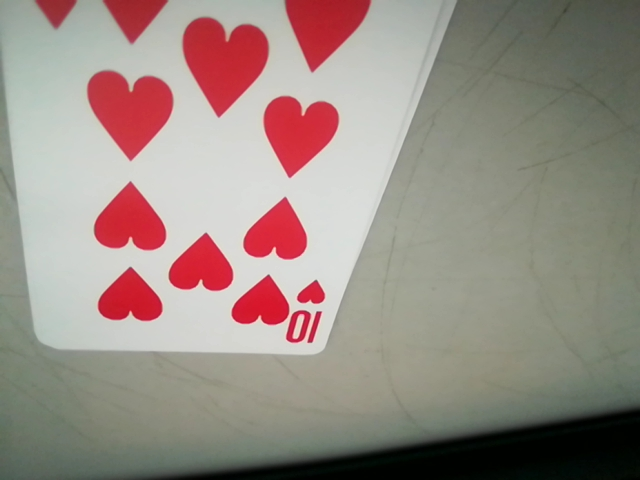hx 10: (286, 275, 334, 344)
